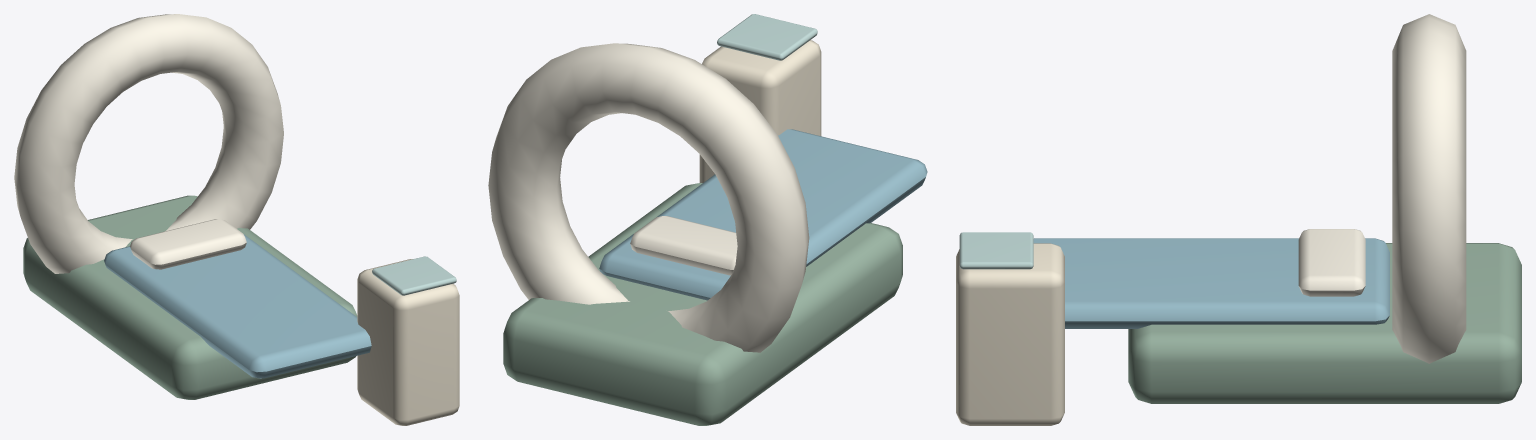
File: Diagnostics.fbx
The picture shows the model from 3 angles, left to right: view 1: azimuth 30°, elevation 25°; view 2: azimuth 150°, elevation 25°; view 3: azimuth 270°, elevation 25°; orthographic projection. The views are drawn at different scales.
Parts seen in each view (by area): view 1: Linen.003, Blue.001, Enamel.003, Oat.002, Glass.003; view 2: Linen.003, Enamel.003, Blue.001, Oat.002, Glass.003; view 3: Enamel.003, Linen.003, Blue.001, Oat.002, Glass.003.
Part boxes in pixels (x1,y1,x2,y2): Linen.003: (14, 14, 283, 273); Blue.001: (104, 234, 371, 378); Enamel.003: (23, 195, 357, 399); Oat.002: (357, 259, 459, 425); Glass.003: (372, 256, 456, 295); Linen.003: (488, 43, 809, 352); Enamel.003: (503, 183, 902, 425); Blue.001: (599, 129, 927, 300); Oat.002: (699, 40, 821, 182); Glass.003: (717, 14, 817, 60); Enamel.003: (1128, 243, 1521, 403); Linen.003: (1298, 14, 1466, 363); Blue.001: (1033, 238, 1389, 328); Oat.002: (956, 243, 1064, 425); Glass.003: (959, 232, 1033, 269).
Bounding box in the file's own units: 156 × 159 × 245.
